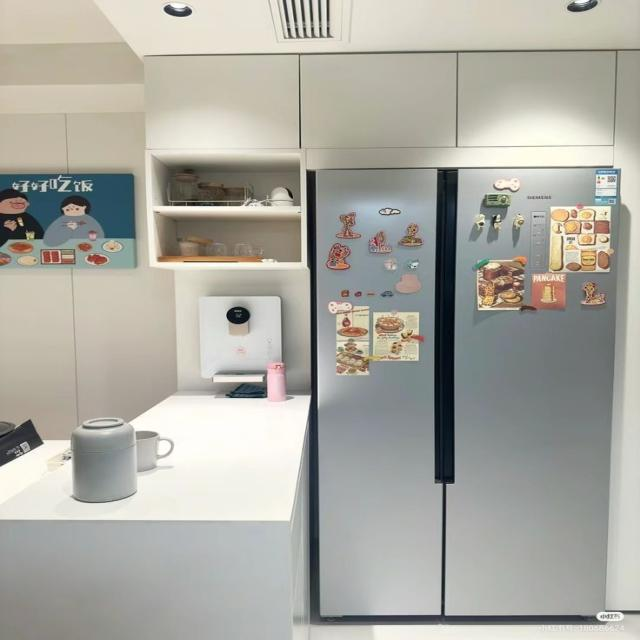obstacle: (309, 165, 621, 623), (0, 390, 311, 638), (144, 148, 308, 271)
